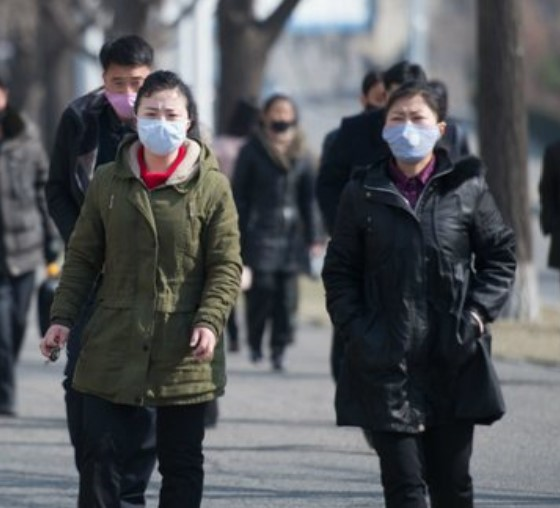face_with_mask: (136, 69, 191, 157), (383, 87, 444, 162), (99, 34, 148, 115), (258, 94, 298, 135)
